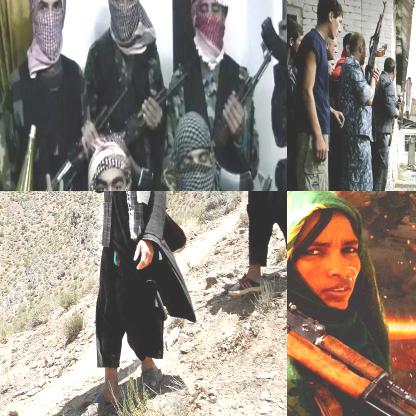rifle: (287, 234, 415, 415), (287, 191, 415, 223), (0, 120, 41, 190), (366, 0, 391, 75)
